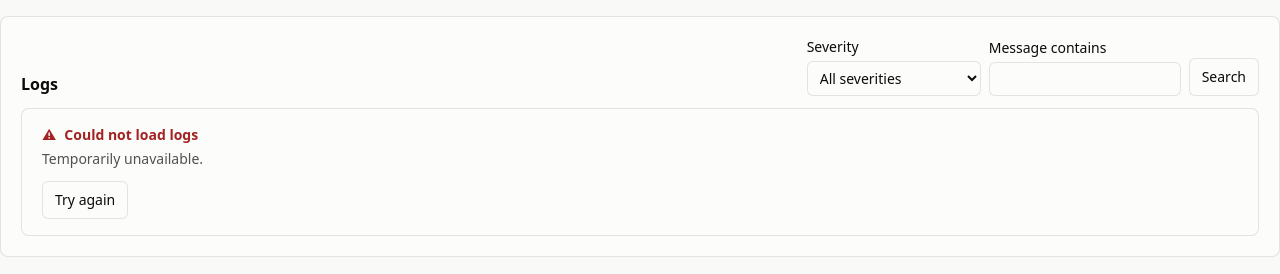
Scenario: LogsPanel › shows an error with a retry
This screenshot has width=1280, height=274.
Expected: the message shows "Temporarily unavailable.", [42,149,203,168]
Click the button "Try again".
click(85, 200)  # box [42,181,128,219]
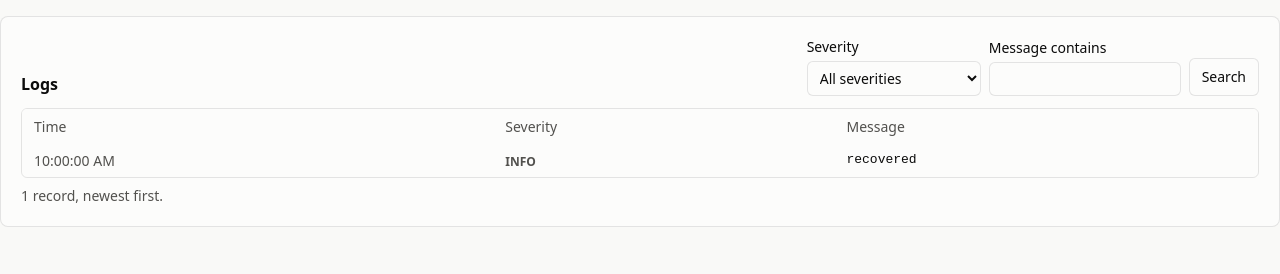
Now the text "recovered" is shown, box [834,145,1258,177]
